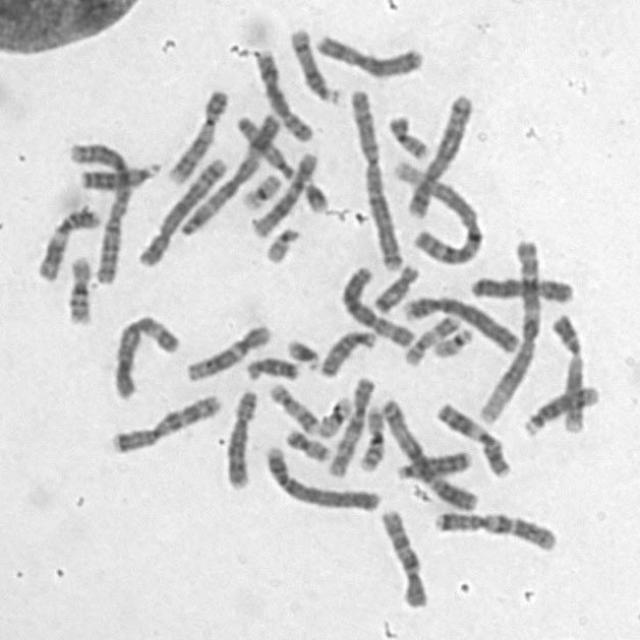A1: (472, 230, 545, 427), (385, 152, 486, 266)
A2: (343, 82, 406, 274), (63, 131, 132, 287)
A3: (176, 106, 284, 237), (374, 391, 480, 512)
B4: (257, 438, 383, 513), (396, 286, 523, 354)
B5: (131, 150, 229, 268), (400, 85, 476, 218)
C10: (372, 501, 432, 610), (322, 370, 378, 478)
C11: (429, 394, 514, 481), (31, 198, 102, 283)
C12: (244, 146, 320, 240), (180, 316, 274, 382)
C6: (335, 259, 417, 348), (106, 308, 182, 400)
C7: (104, 386, 224, 455), (427, 503, 560, 554)
C8: (248, 42, 316, 143), (218, 382, 260, 492)
C9: (162, 82, 231, 185), (544, 305, 590, 435)
D13: (73, 154, 163, 192), (391, 442, 475, 482)
D14: (517, 377, 601, 438), (284, 20, 343, 106)
D15: (231, 109, 297, 180), (314, 322, 378, 379)
E16: (60, 248, 96, 326), (353, 398, 388, 472)
E17: (397, 307, 463, 368), (262, 376, 322, 435)
E18: (368, 257, 422, 315), (239, 349, 302, 382)
F19: (235, 166, 284, 212), (312, 389, 355, 439)
F20: (380, 106, 432, 160), (279, 422, 334, 463)
G21: (280, 330, 322, 371), (296, 173, 331, 213)
G22: (258, 220, 302, 265), (428, 320, 477, 359)
X: (309, 26, 426, 80), (465, 268, 577, 304)
